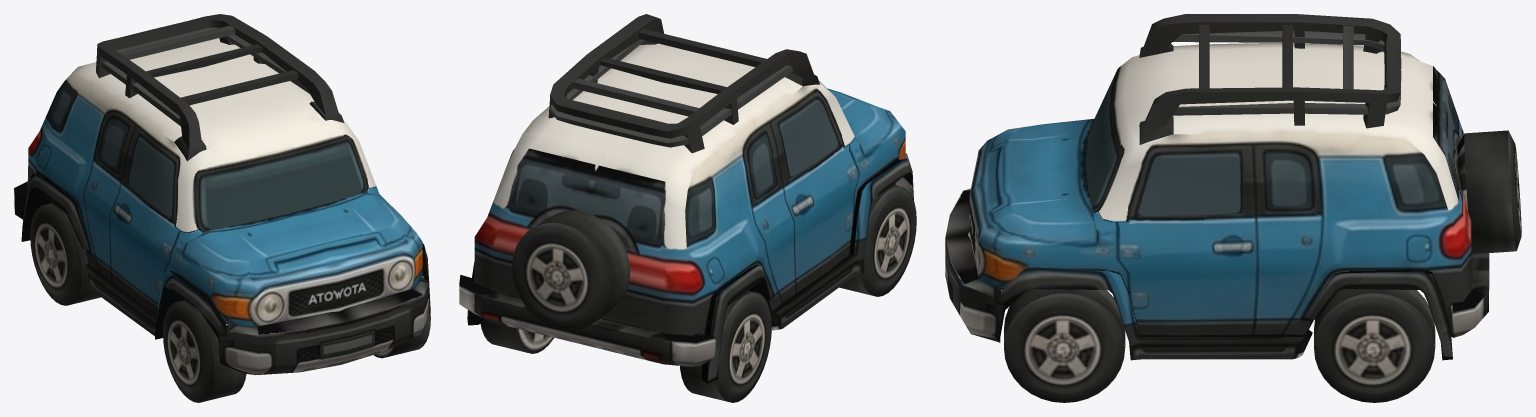
The model's file is FJ_cruiser_toyota.glb.
The picture shows the model from 3 angles, left to right: view 1: azimuth 30°, elevation 25°; view 2: azimuth 150°, elevation 25°; view 3: azimuth 270°, elevation 25°; orthographic projection. The views are drawn at different scales.
Visible parts, largest first — view 1: FJ_cruisher_car_body, Front_right, Back_right, Front_left; view 2: FJ_cruisher_car_body, Back_right, Front_right, Back_left; view 3: FJ_cruisher_car_body, Front_left, Back_left.
Boxes of the visible parts, x1,y1,x2,y2 form: FJ_cruisher_car_body: (14, 14, 430, 375); Front_right: (163, 296, 246, 402); Back_right: (30, 203, 100, 305); Front_left: (373, 313, 430, 358); FJ_cruisher_car_body: (459, 14, 913, 383); Back_right: (680, 291, 771, 402); Front_right: (839, 184, 916, 296); Back_left: (480, 318, 553, 353); FJ_cruisher_car_body: (945, 14, 1521, 360); Front_left: (1004, 289, 1125, 402); Back_left: (1314, 289, 1435, 402).
Size of the model in its own units: 2.58 by 2.61 by 4.71.
Materials: 1 (1 with a texture image).
